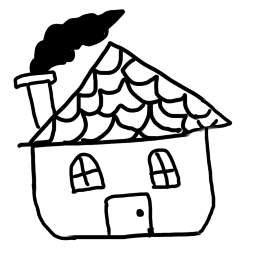closed_window: (63, 150, 108, 197), (145, 142, 184, 193)
door: (102, 188, 158, 242)
roof: (6, 38, 238, 150)
smoking_chimney: (6, 5, 126, 135)
wall: (27, 125, 217, 245)
